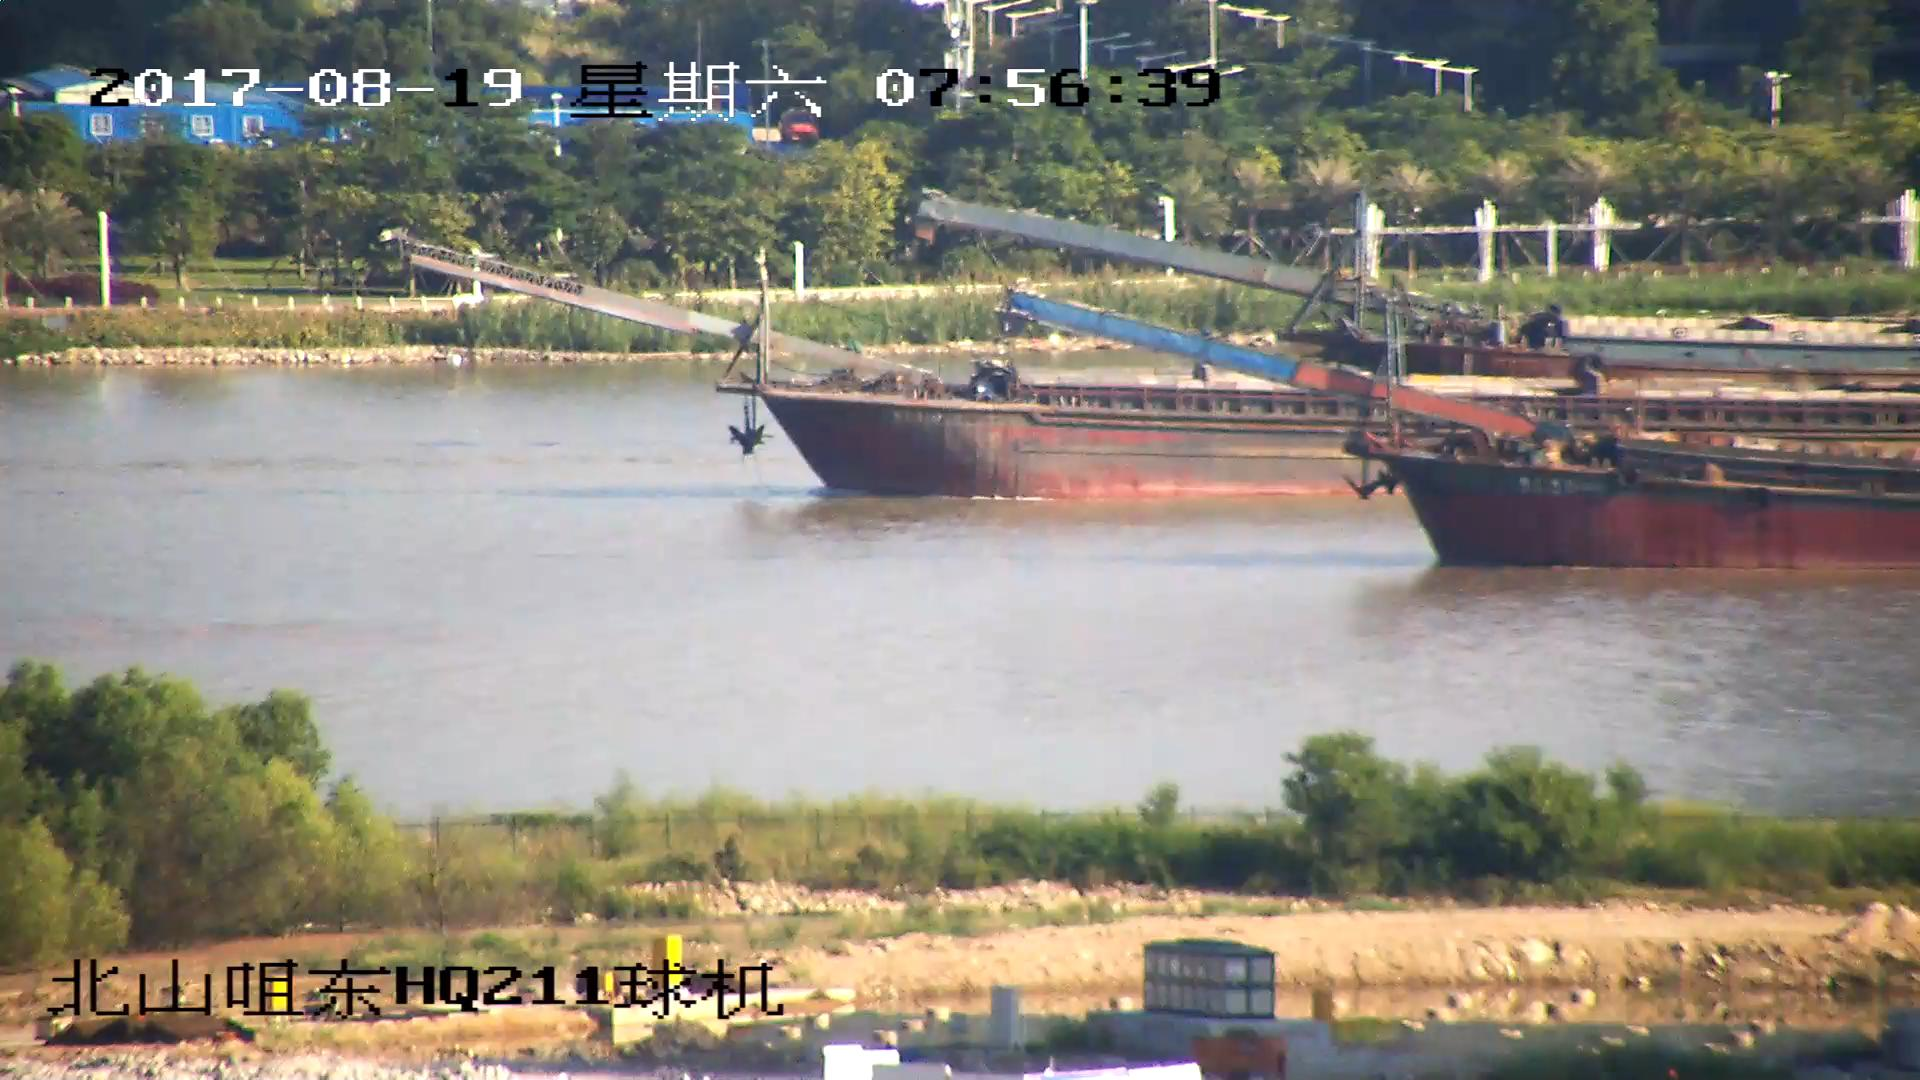bulk cargo carrier: (375, 235, 1339, 504), (1008, 288, 1920, 568), (915, 198, 1920, 372)
